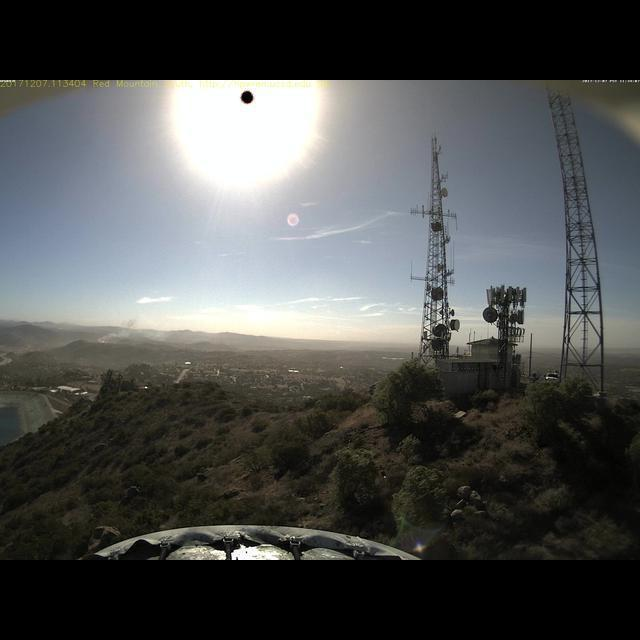Smoke: (86, 311, 172, 345)
